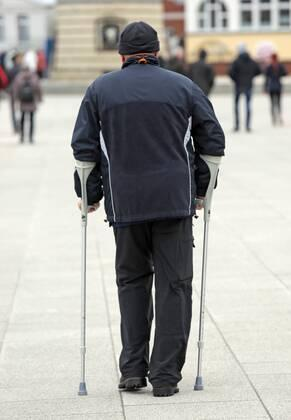crutches: (71, 22, 225, 397)
